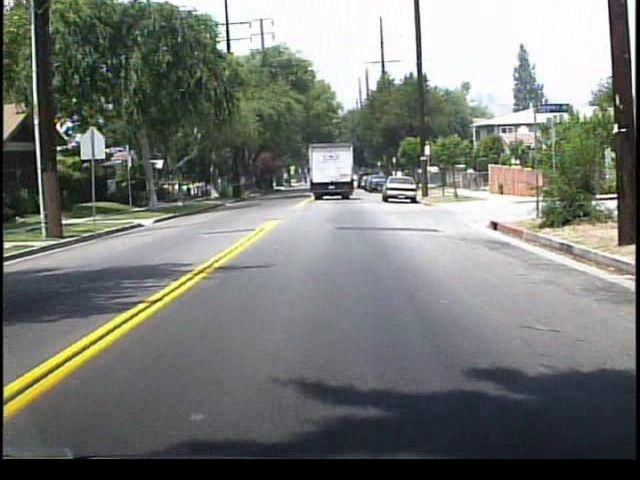person: (464, 165, 475, 190)
